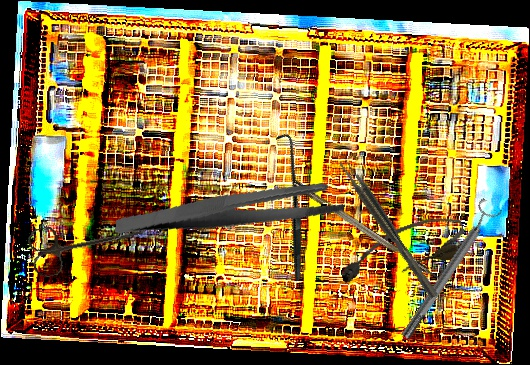Cannula: (333, 209, 471, 292)
Chopper: (292, 172, 454, 289)
Dressing Forceps: (114, 155, 348, 265)
Fixation Ring: (392, 197, 505, 344)
Hook Surgical: (214, 130, 365, 283)
Iris Scissors: (25, 205, 151, 280)
Tissue Forceps: (336, 155, 439, 303)
